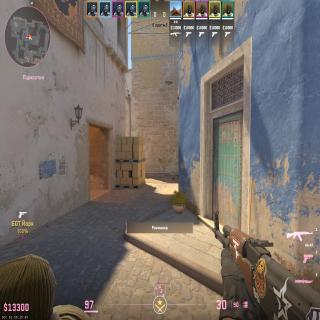T-Head: (0, 250, 56, 320)
